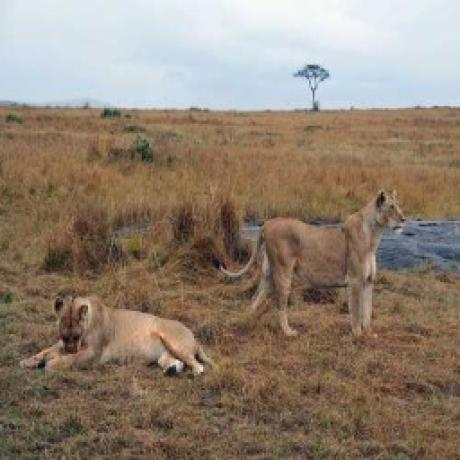Lion: (216, 186, 410, 339), (20, 290, 216, 377)
